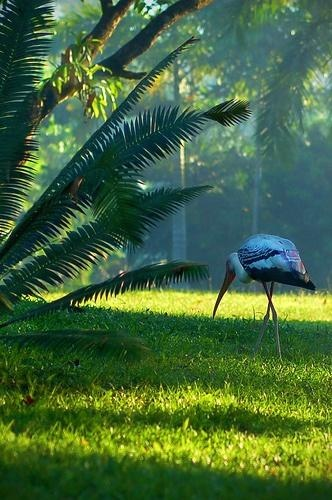bird: (211, 234, 317, 366)
